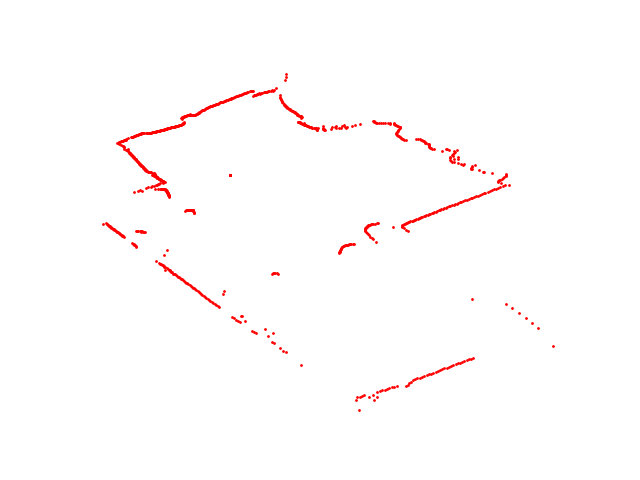person: (336, 220, 382, 258)
